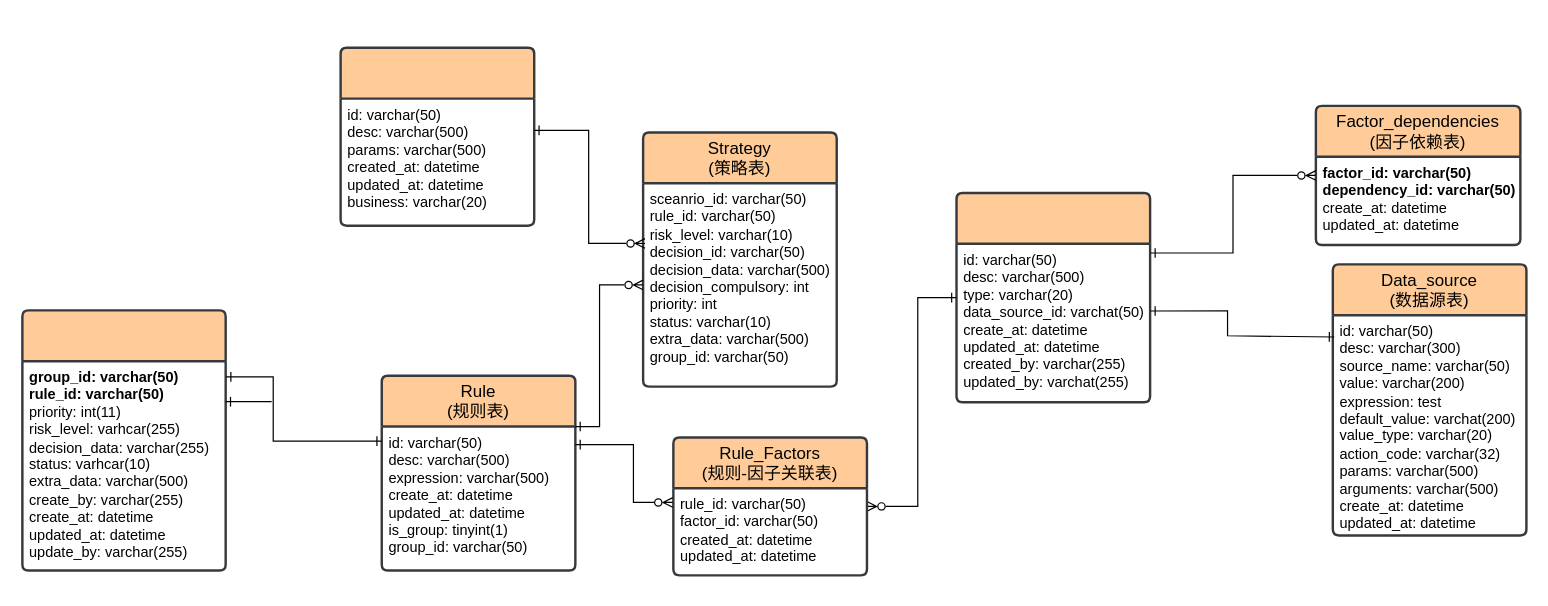
Some shapes in this 1548 by 606 pixel diagram are drawn without their labels. The box of each missing label's shape, as (x1, y1, x2, y2) in pixels:
Factor (因子表): (955, 191, 1151, 403)
Rule_group_member (规则组-成员表): (21, 309, 226, 571)
Scenario (场景表): (339, 46, 535, 226)
